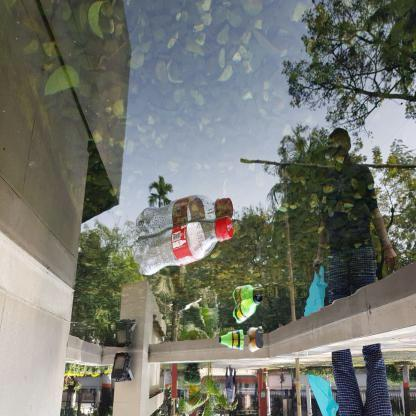Metal: (248, 335, 264, 355)
Plastic: (133, 215, 243, 277), (231, 292, 264, 327), (219, 330, 245, 350)
